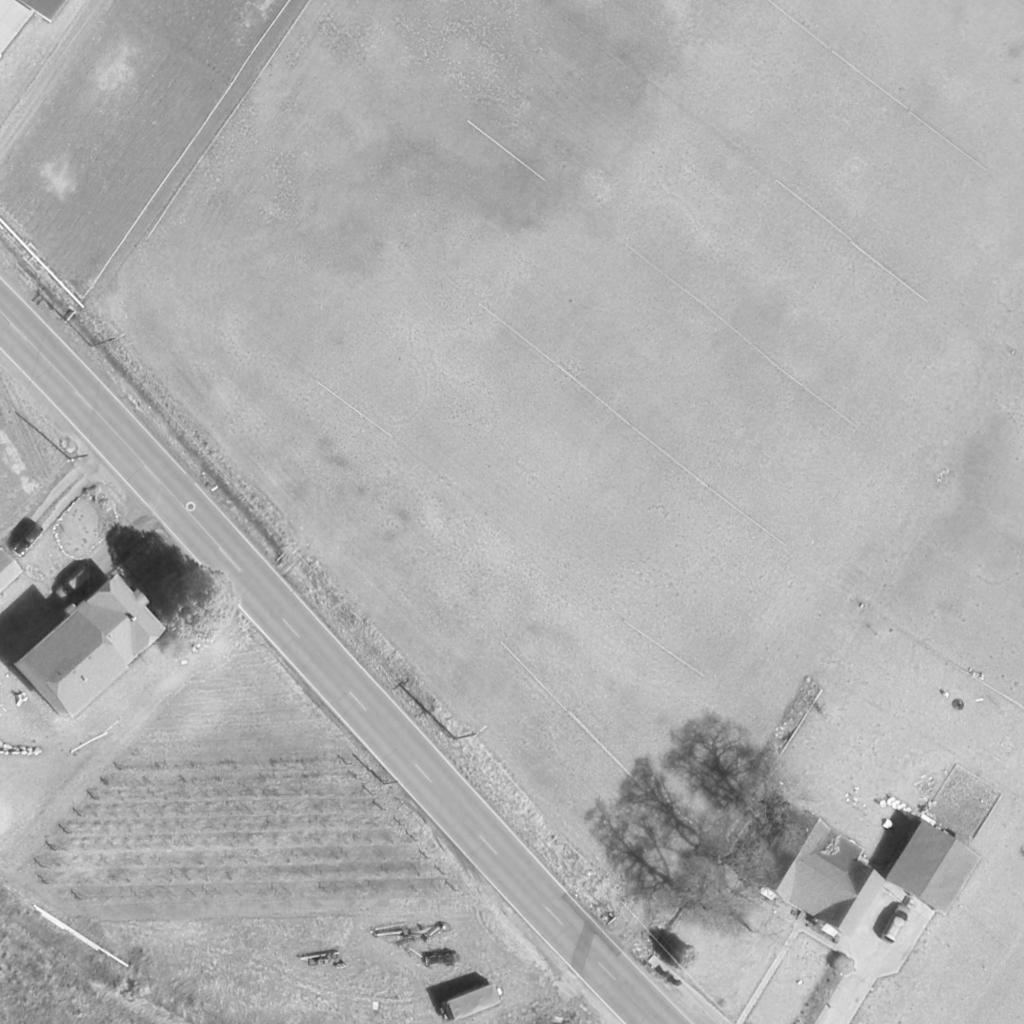vehicle: (56, 569, 98, 603), (8, 521, 44, 557), (882, 905, 910, 945)
